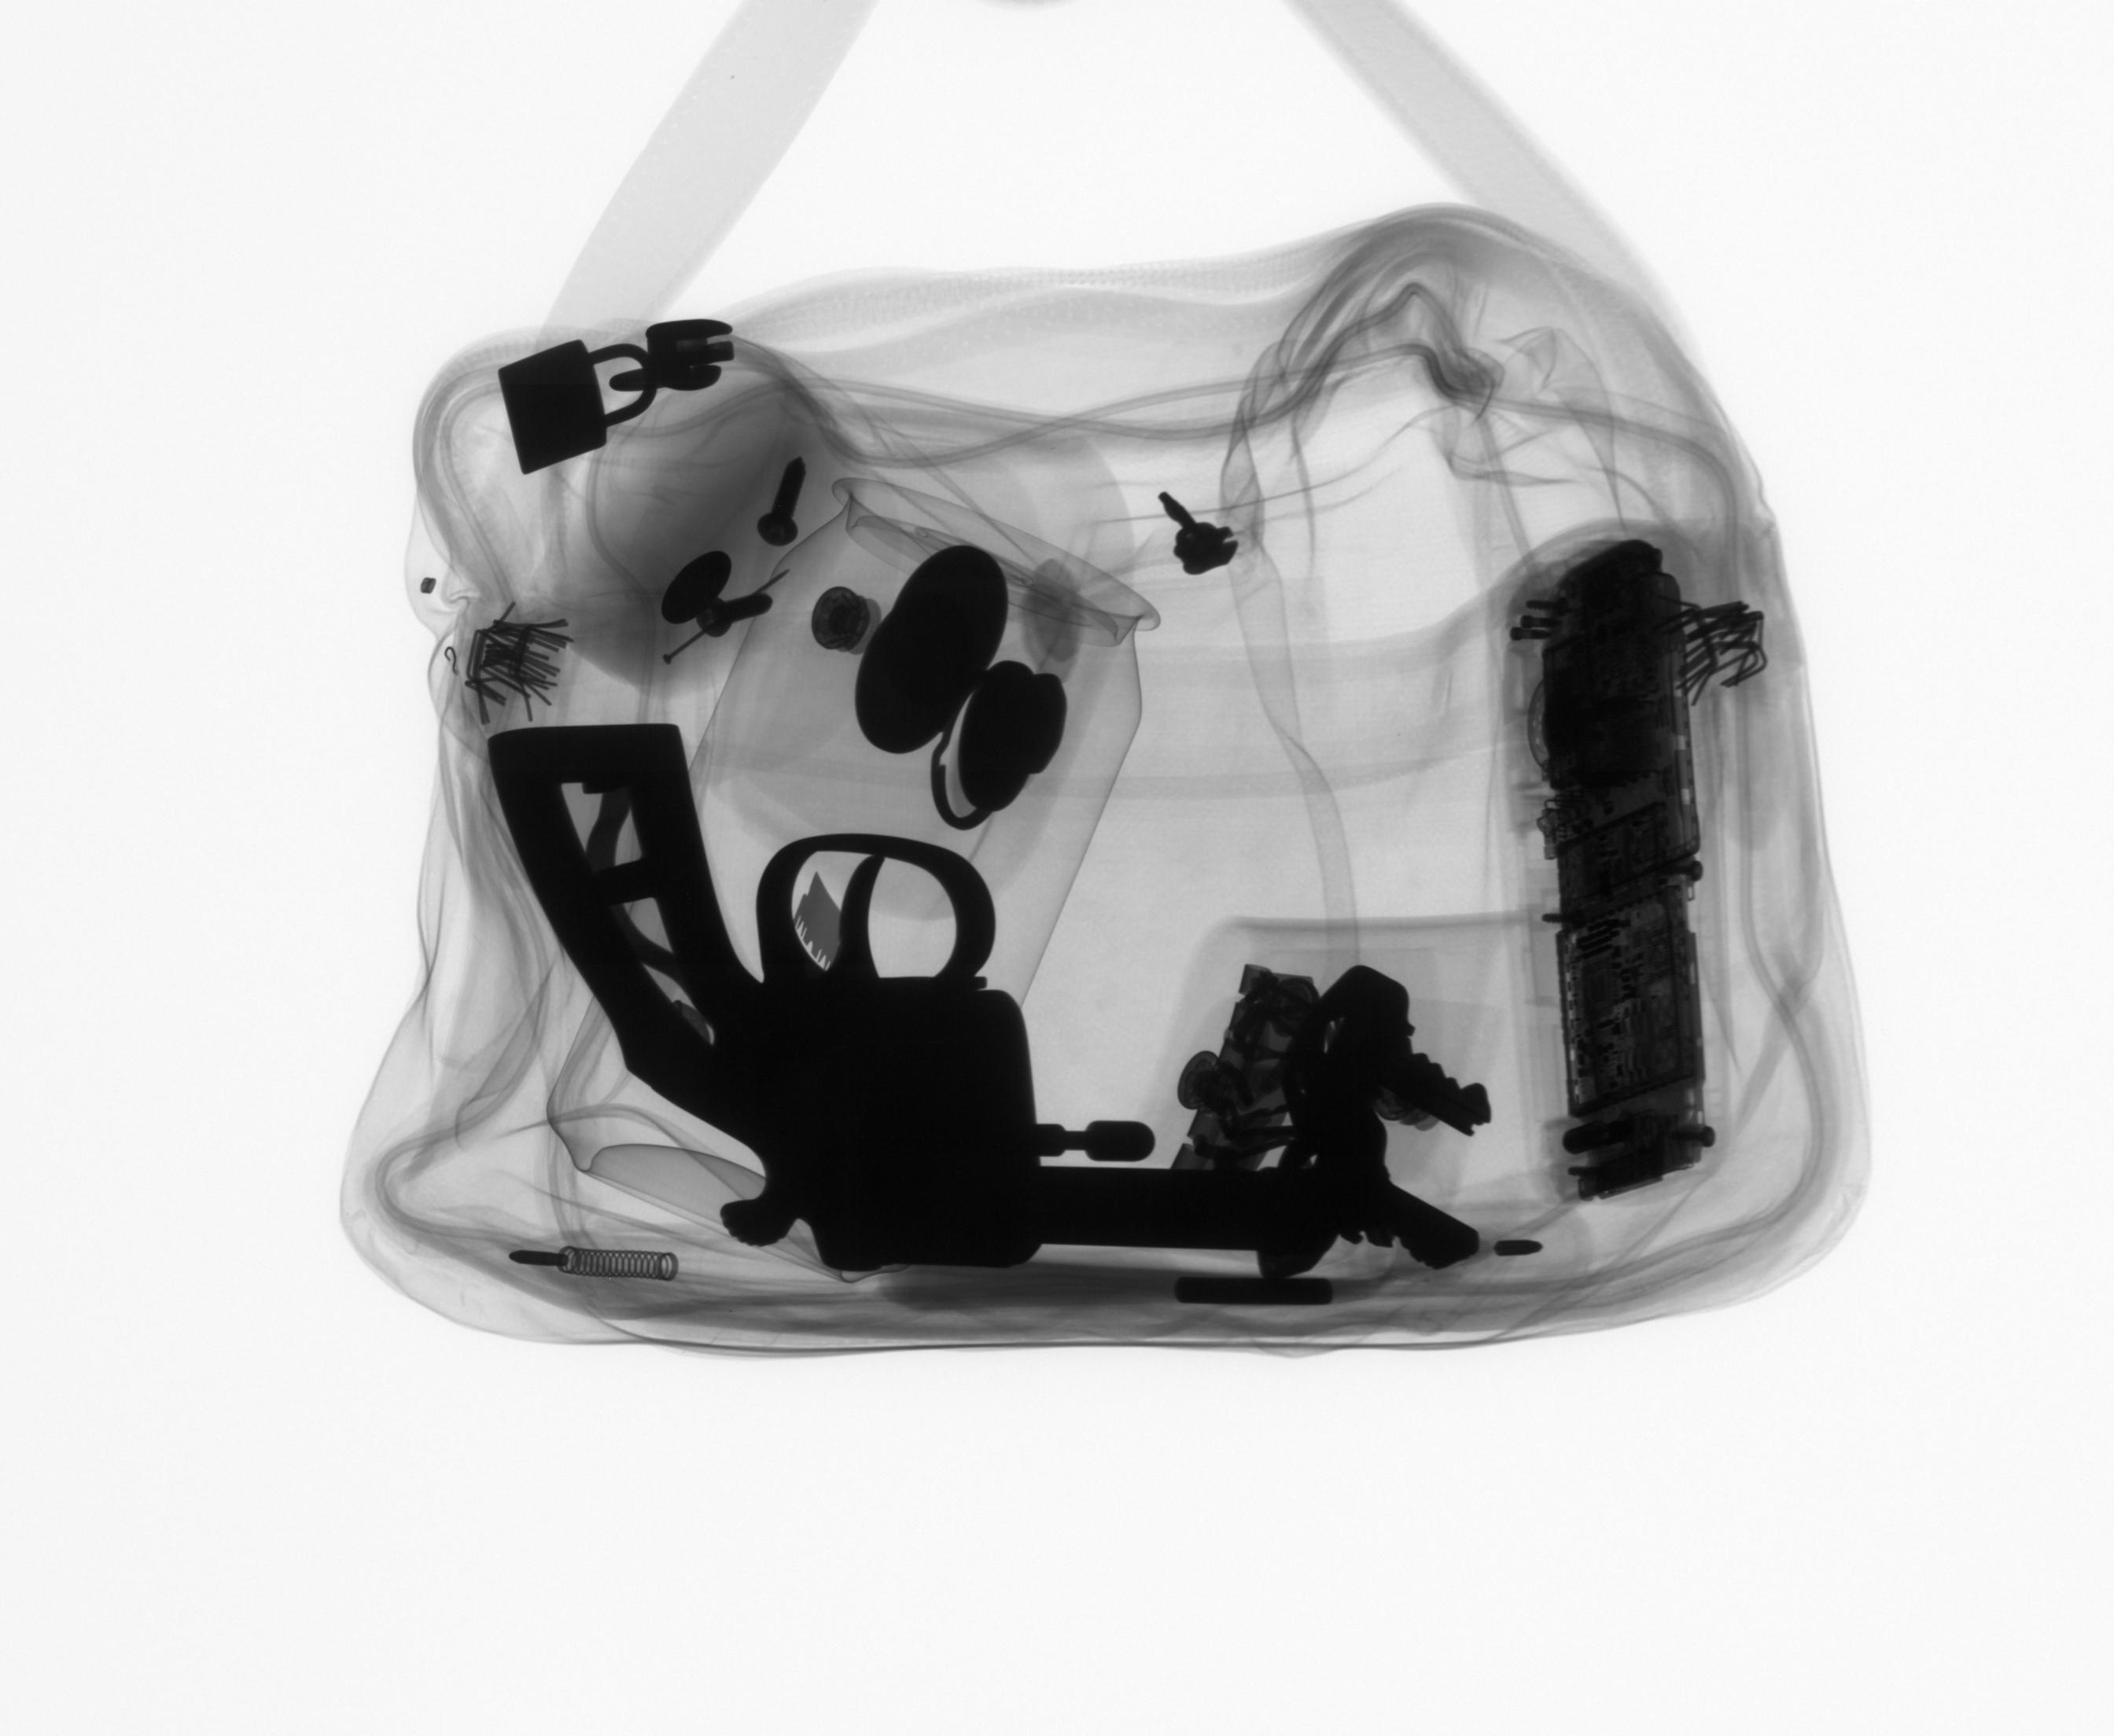Handgun: (477, 716, 1336, 1289)
